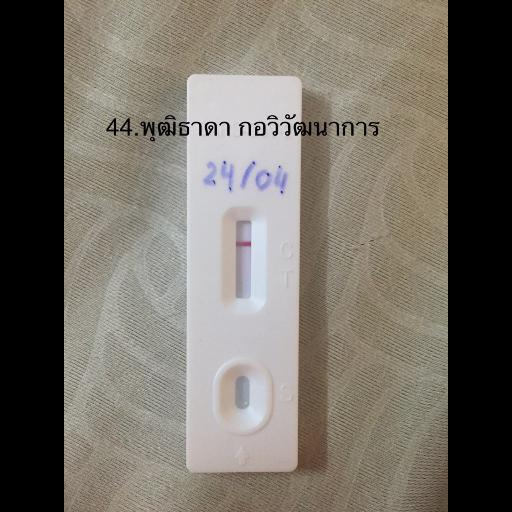Neg: (186, 75, 298, 471)
